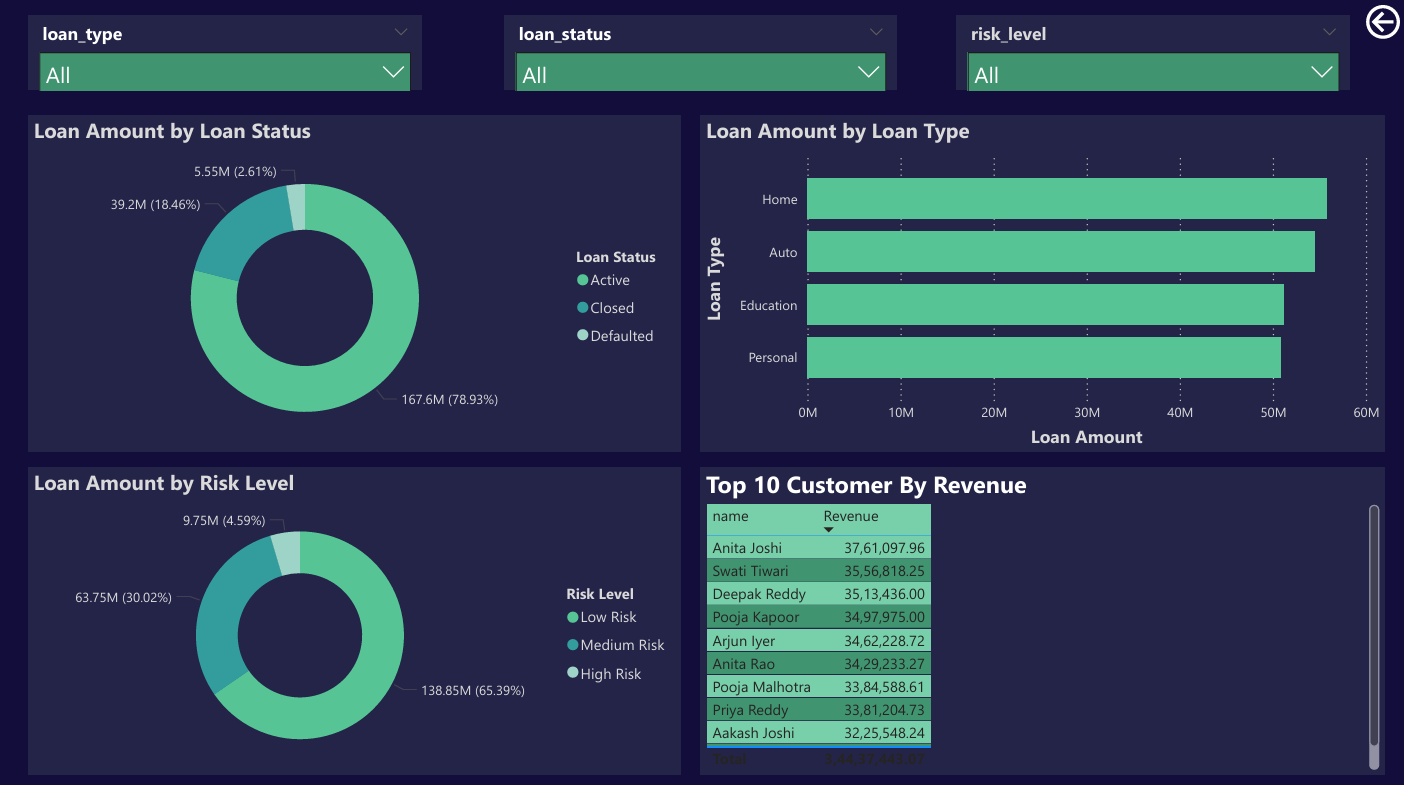

What the dashboard file says about the page in this screenshot:
{"tool":"powerbi","page":{"name":"Customer & Loan Analysis","canvas":[1280,720],"ordinal":3},"visuals":[{"type":"donutChart","fields":{"Category":["public loans.loan_status"],"Y":["Sum(public loans.loan_amount)"]},"box":[28.2,106,593,306.4],"z":0},{"type":"clusteredBarChart","fields":{"Y":["Sum(public loans.loan_amount)"],"Category":["public loans.loan_type"]},"box":[639.4,106,621.2,306.4],"z":1000},{"type":"donutChart","fields":{"Category":["public loans.risk_level"],"Y":["Sum(public loans.loan_amount)"]},"box":[28.2,425.7,593,279.9],"z":2000},{"type":"tableEx","fields":{"Values":["public customers.name","Sum(public transactions.txn_amount)"]},"box":[639.4,425.7,621.2,279.9],"z":3000},{"type":"slicer","fields":{"Values":["public loans.loan_type"]},"box":[28.2,14.9,357.8,67.9],"z":4000},{"type":"slicer","fields":{"Values":["public loans.loan_status"]},"box":[460.5,14.9,357.8,67.9],"z":5000},{"type":"slicer","fields":{"Values":["public loans.risk_level"]},"box":[871.8,14.6,357.8,68.3],"z":6000},{"type":"actionButton","box":[1239.3,0,40.7,40.7],"z":6001}]}

Visuals, with their boxes in screenshot pixels (x1, y1, x2, y2), scaled from the page's 1280x720 canvas onto the 1404x785 screenshot:
donutChart - public loans.loan_status x Sum(public loans.loan_amount): [left=31, top=116, right=681, bottom=450]
clusteredBarChart - Sum(public loans.loan_amount) x public loans.loan_type: [left=701, top=116, right=1383, bottom=450]
donutChart - public loans.risk_level x Sum(public loans.loan_amount): [left=31, top=464, right=681, bottom=769]
tableEx - public customers.name x Sum(public transactions.txn_amount): [left=701, top=464, right=1383, bottom=769]
slicer - public loans.loan_type: [left=31, top=16, right=423, bottom=90]
slicer - public loans.loan_status: [left=505, top=16, right=898, bottom=90]
slicer - public loans.risk_level: [left=956, top=16, right=1349, bottom=90]
actionButton: [left=1359, top=0, right=1403, bottom=44]
